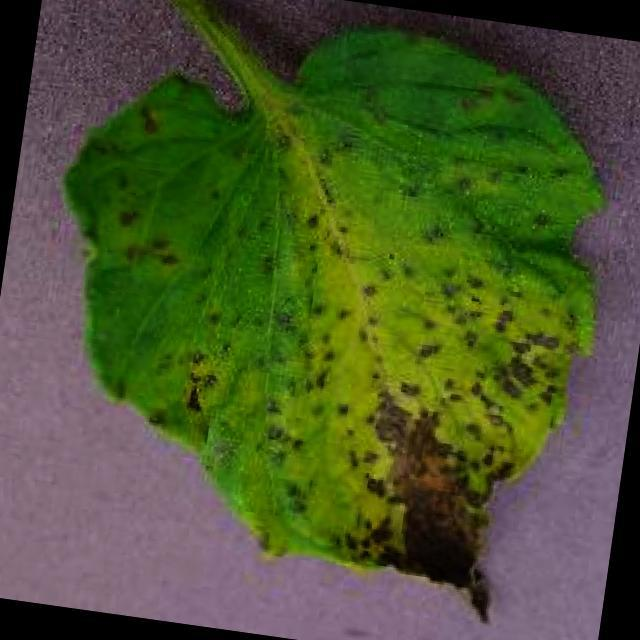Tomato Septoria spot leaf: (20, 0, 629, 625)
